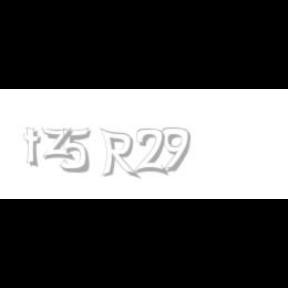2: (133, 128, 167, 176)
5: (60, 128, 91, 174)
9: (162, 128, 190, 172)
R: (100, 128, 138, 180)
t: (23, 128, 45, 168)
z: (41, 128, 77, 160)
